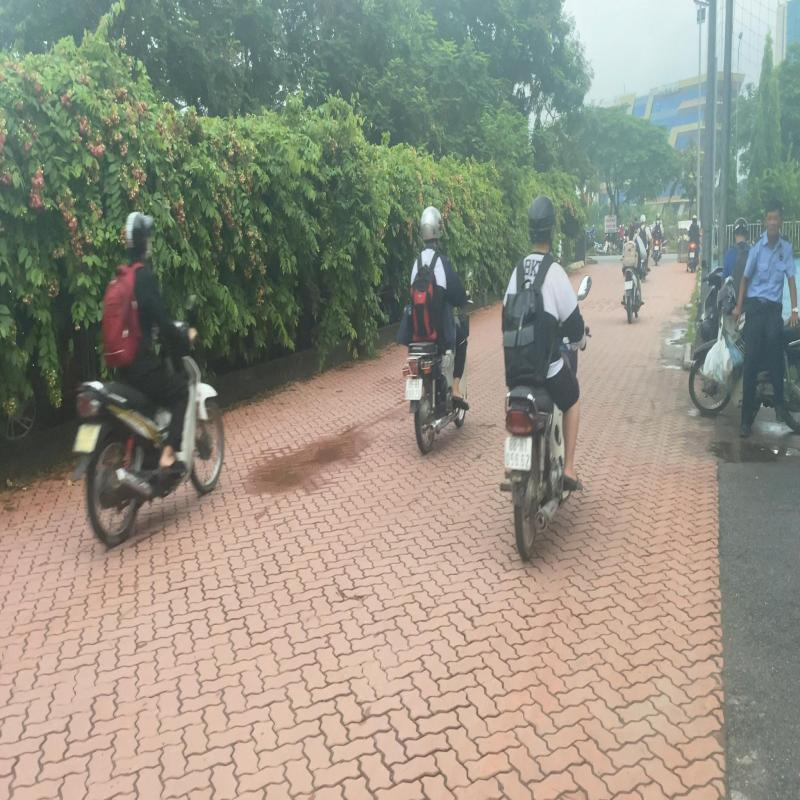helmet: (528, 196, 555, 246), (420, 206, 443, 245)
licenseplate: (504, 434, 532, 470), (404, 378, 422, 400)
motorcyclist: (497, 192, 594, 564), (399, 201, 474, 456)
